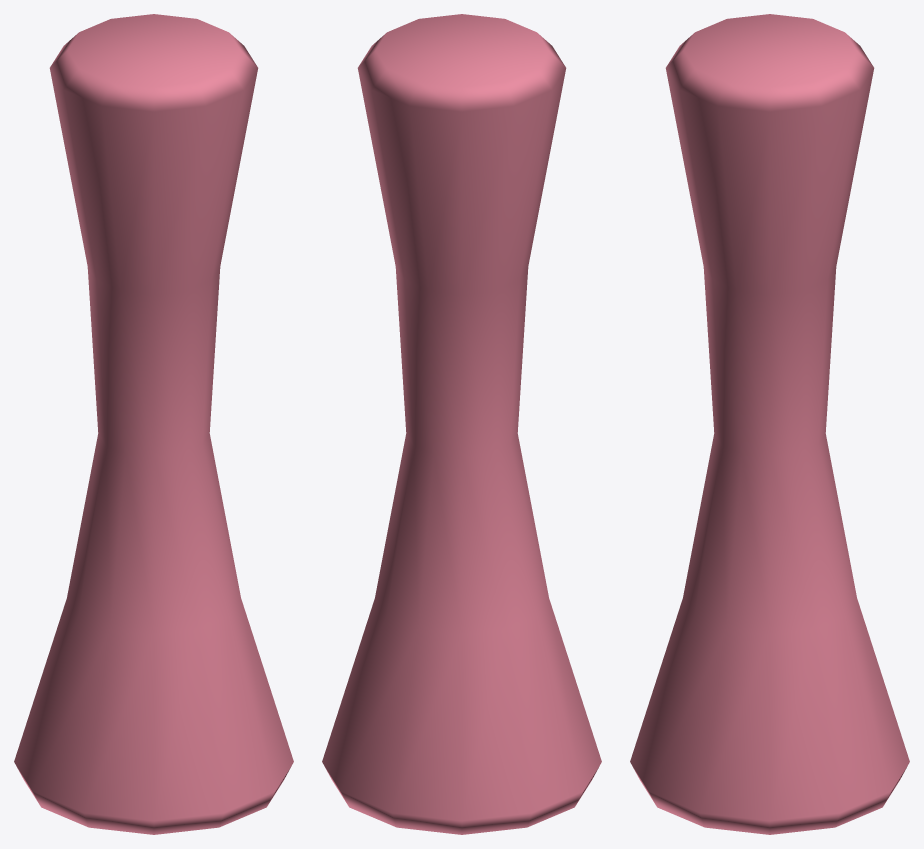
Rendered from Decoration_2.glb.
The picture shows the model from 3 angles, left to right: view 1: azimuth 30°, elevation 25°; view 2: azimuth 150°, elevation 25°; view 3: azimuth 270°, elevation 25°; orthographic projection.
Visible parts, largest first — view 1: Decoration_2; view 2: Decoration_2; view 3: Decoration_2.
Boxes of the visible parts, box(x1,y1,x2,y2) form: Decoration_2: box(14, 14, 293, 834); Decoration_2: box(322, 14, 601, 834); Decoration_2: box(630, 14, 909, 834).
Size of the model in its own units: 0.1386 by 0.3984 by 0.1386.
Materials: 1 (1 with a texture image).
